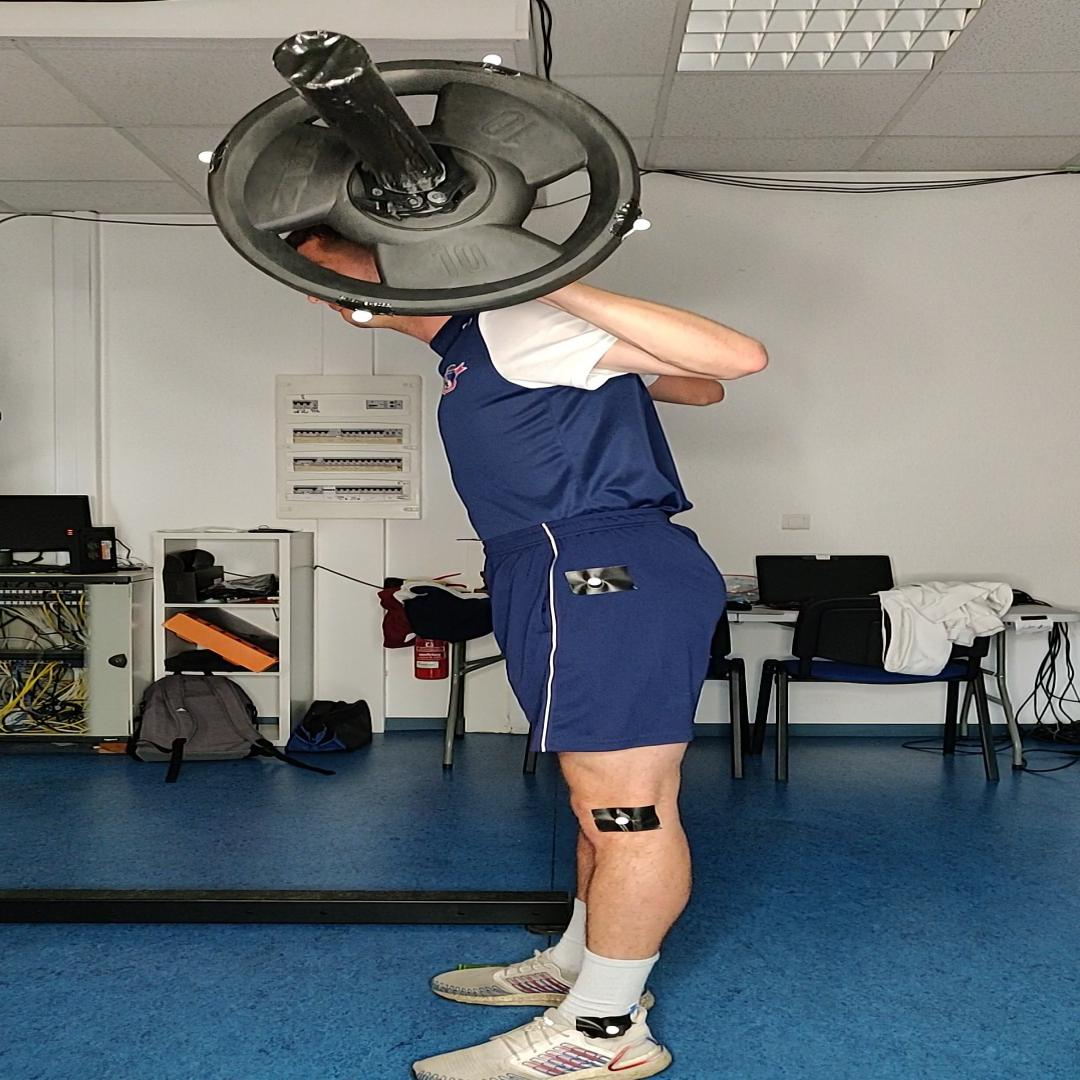Bar: (272, 30, 370, 90)
Barbell: (209, 59, 640, 316)
